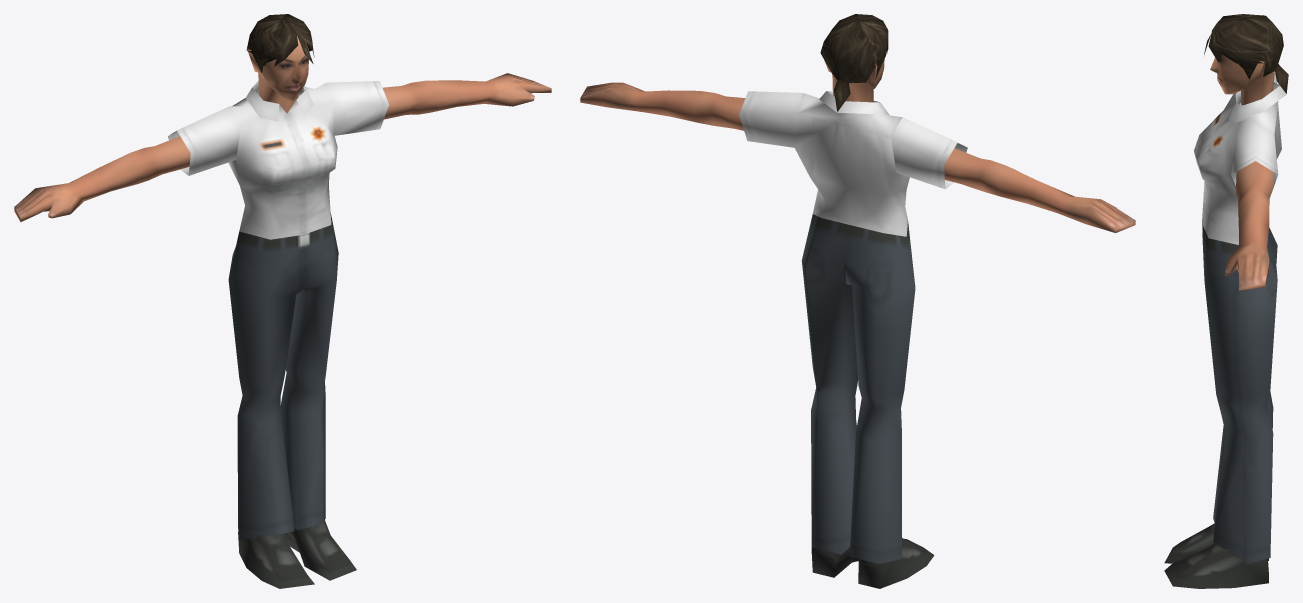
Rendered from femguard.fbx.
3 renders of one model, left to right at view 1: azimuth 30°, elevation 25°; view 2: azimuth 150°, elevation 25°; view 3: azimuth 270°, elevation 25°, orthographic. The views are drawn at different scales.
Parts seen in each view (by area): view 1: femguard; view 2: femguard; view 3: femguard.
Part boxes in pixels (x1,y1,x2,y2): femguard: (14,14,551,588); femguard: (580,14,1135,588); femguard: (1164,14,1288,588).
Size of the model in its own units: 174 by 167 by 34.35.
